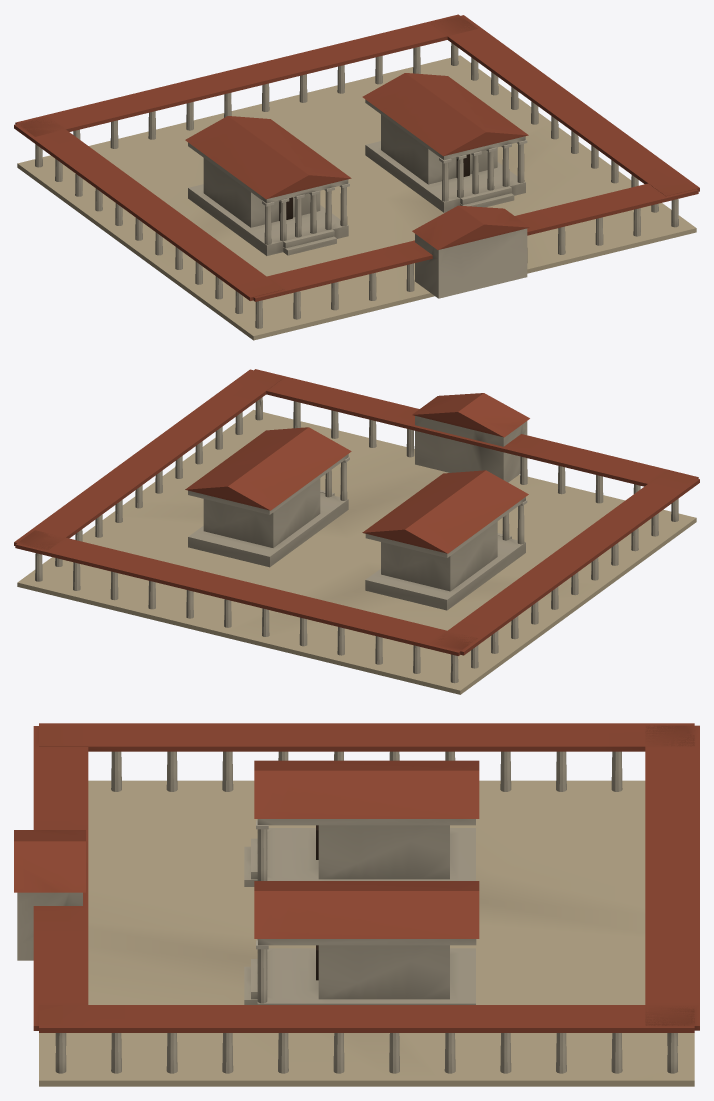
File: porticus-metelli.glb
3 renders of one model, top to bottom at view 1: azimuth 30°, elevation 25°; view 2: azimuth 150°, elevation 25°; view 3: azimuth 270°, elevation 25°, orthographic. The views are drawn at different scales.
Visible parts, largest first — view 1: p2_roofs, p0_platform, p1_colonnade; view 2: p2_roofs, p0_platform, p1_colonnade; view 3: p0_platform, p2_roofs, p1_colonnade.
Part boxes in pixels (x1,y1,x2,y2): p2_roofs: (14,14,699,301); p0_platform: (17,55,696,340); p1_colonnade: (35,43,678,328); p2_roofs: (14,369,699,655); p0_platform: (17,409,696,694); p1_colonnade: (35,397,678,683); p0_platform: (39,780,694,1086); p2_roofs: (14,723,699,1032); p1_colonnade: (17,751,677,1073).
Size of the model in its own units: 132 by 21.35 by 126.
